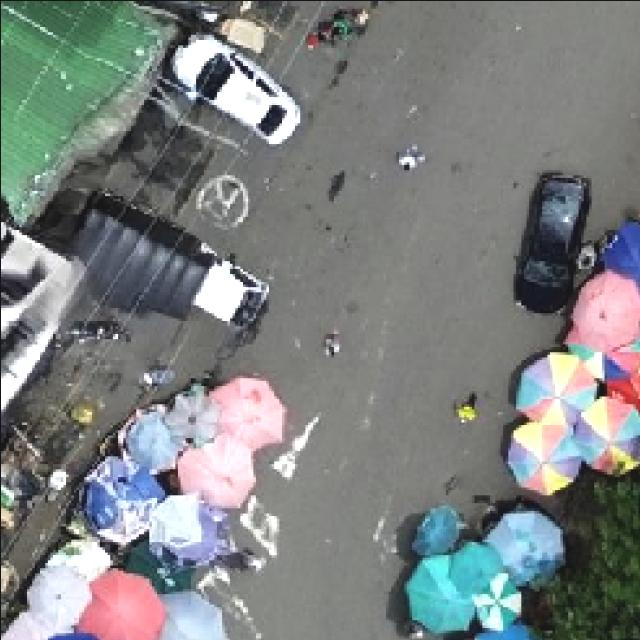vendedor_ambulante: (79, 454, 170, 548), (70, 564, 163, 640), (404, 552, 480, 640), (515, 352, 599, 431), (203, 377, 290, 451), (480, 511, 568, 584), (146, 494, 228, 572), (176, 440, 260, 514), (564, 265, 640, 343), (508, 418, 584, 494), (115, 400, 180, 479), (146, 583, 232, 640), (580, 393, 640, 471), (24, 563, 94, 627), (162, 384, 221, 447), (406, 504, 469, 560), (467, 575, 524, 631), (601, 338, 640, 418), (601, 214, 640, 292), (0, 614, 73, 640), (466, 619, 544, 640), (29, 627, 117, 640)
